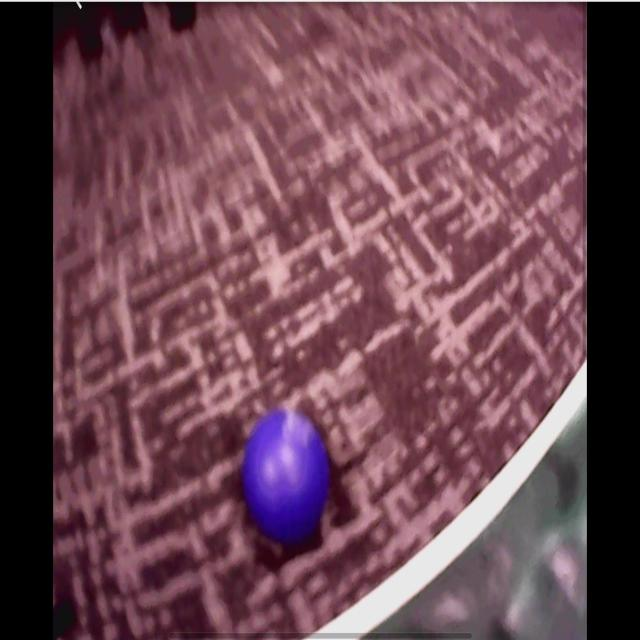ball: (246, 411, 330, 535)
